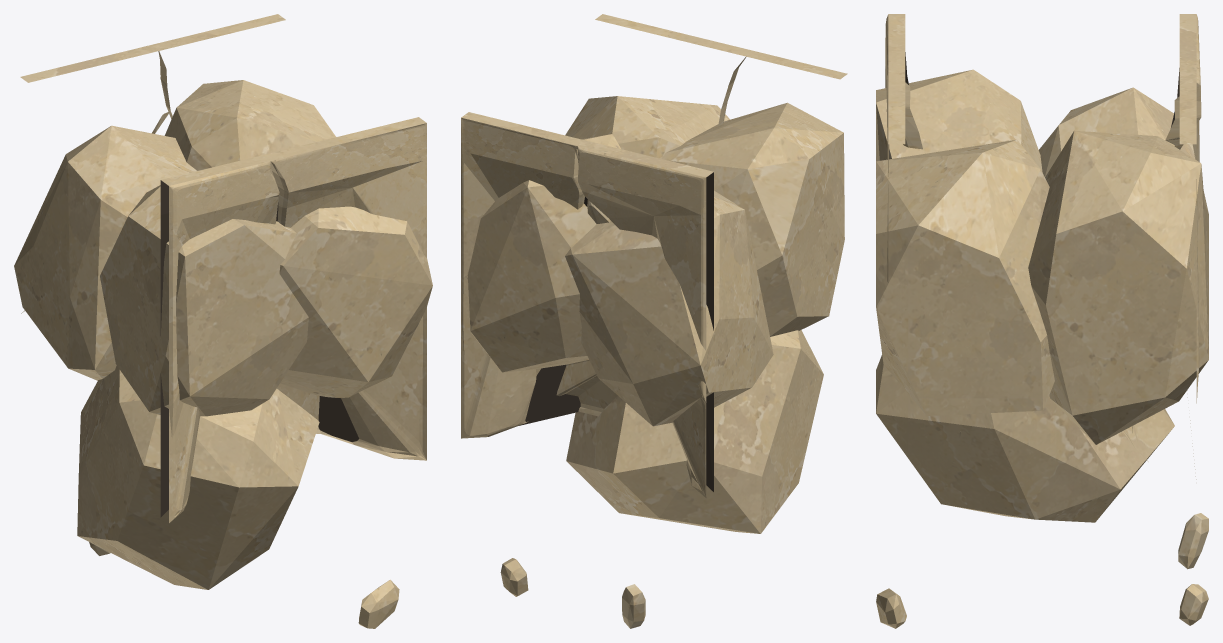
The model's file is ground_bottom_strip_03.glb.
The picture shows the model from 3 angles, left to right: view 1: azimuth 30°, elevation 25°; view 2: azimuth 150°, elevation 25°; view 3: azimuth 270°, elevation 25°; orthographic projection. The views are drawn at different scales.
Visible parts, largest first — view 1: GroundBottomStrip03_Body; view 2: GroundBottomStrip03_Body; view 3: GroundBottomStrip03_Body.
Part boxes in pixels (x1=…): GroundBottomStrip03_Body: x1=14, y1=14, x2=432, y2=628; GroundBottomStrip03_Body: x1=461, y1=14, x2=847, y2=628; GroundBottomStrip03_Body: x1=876, y1=14, x2=1208, y2=628.
Size of the model in its own units: 1 by 1.84 by 1.08.
Materials: 8 (7 with a texture image).
